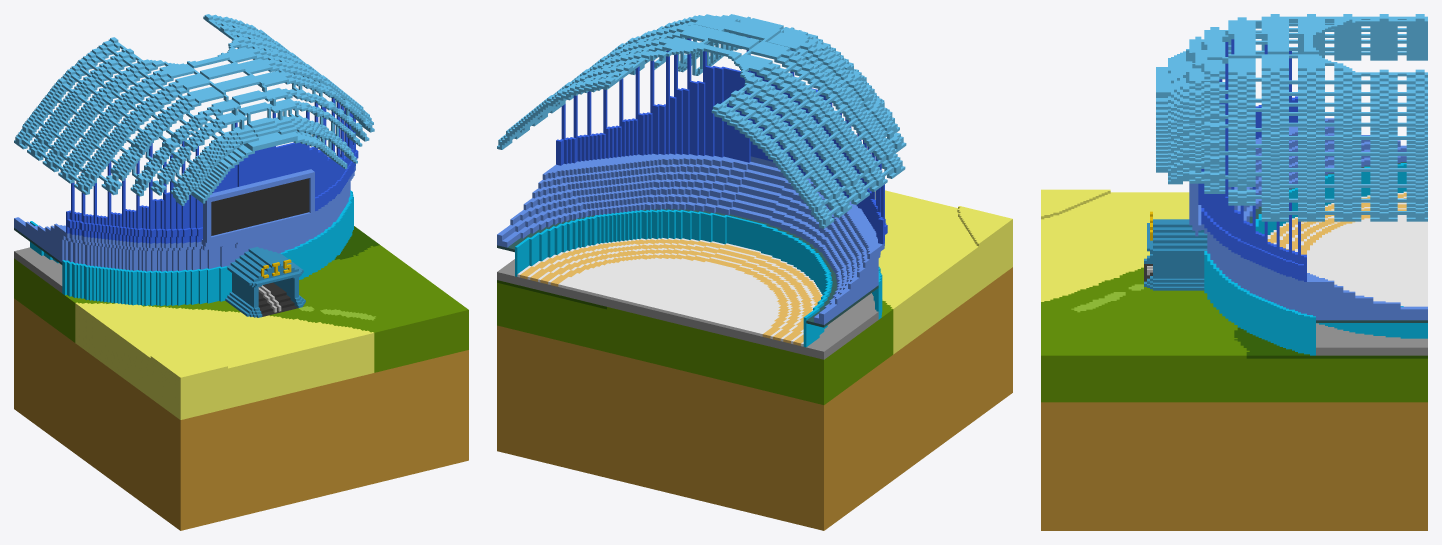
The picture shows the model from 3 angles, left to right: view 1: azimuth 30°, elevation 25°; view 2: azimuth 150°, elevation 25°; view 3: azimuth 270°, elevation 25°; orthographic projection. The views are drawn at different scales.
Parts seen in each view (by area): view 1: 4L-6; view 2: 4L-6; view 3: 4L-6.
Part boxes in pixels (<box>): 4L-6: <box>14,14,468,530</box>; 4L-6: <box>497,14,1012,530</box>; 4L-6: <box>1041,14,1427,530</box>.
Size of the model in its own units: 12.8 by 14.9 by 12.8.
Materials: 1 (1 with a texture image).
